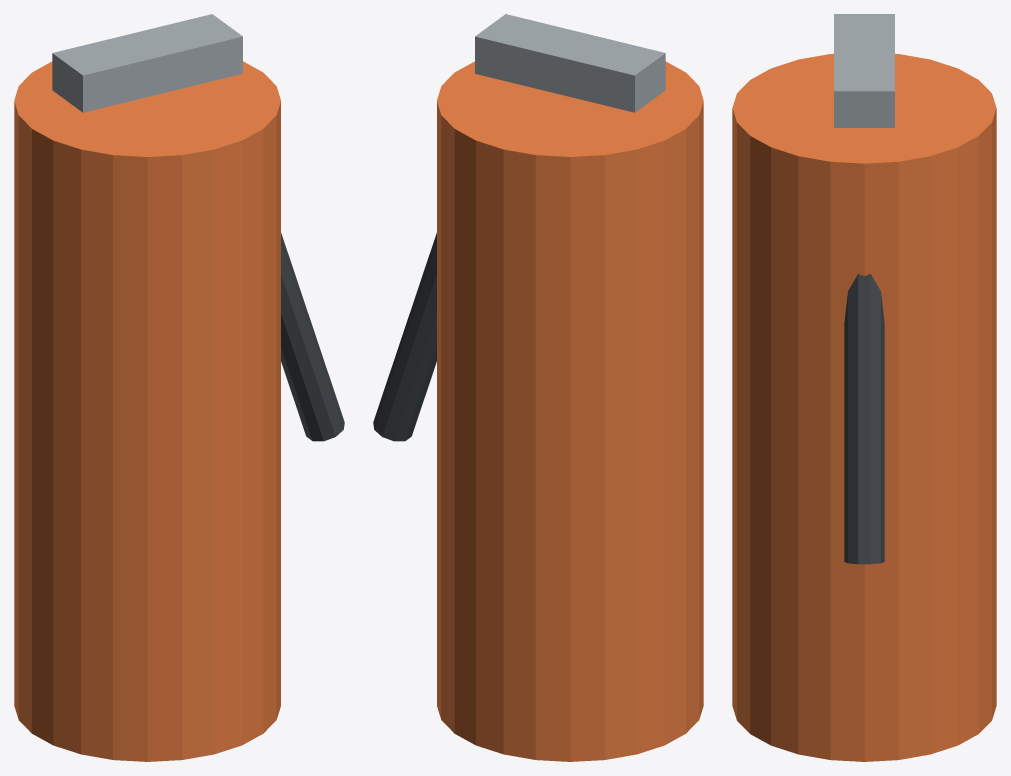
Rendered from long-haul-trucking-and-truck-stop-fire-extinguisher-e144b07d__14009.glb.
3 views of the same model, side by side, from view 1: azimuth 30°, elevation 25°; view 2: azimuth 150°, elevation 25°; view 3: azimuth 270°, elevation 25° (orthographic).
Visible parts, largest first — view 1: fire-extinguisher; view 2: fire-extinguisher; view 3: fire-extinguisher.
Part boxes in pixels (bbox=[...]): fire-extinguisher: bbox=[14, 14, 344, 761]; fire-extinguisher: bbox=[373, 14, 703, 761]; fire-extinguisher: bbox=[732, 14, 996, 761].
Size of the model in its own units: 0.3481 by 0.71 by 0.26.
